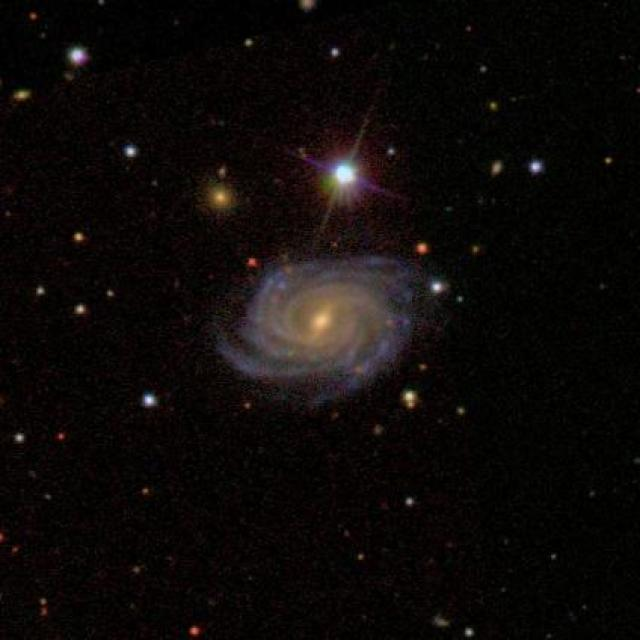galaxy: (212, 248, 442, 419), (200, 178, 243, 223), (68, 46, 94, 70), (399, 389, 424, 412), (525, 154, 546, 181), (431, 612, 455, 632), (141, 390, 162, 412), (10, 87, 35, 104), (490, 157, 507, 180), (72, 300, 93, 318), (245, 253, 262, 272), (67, 231, 89, 245), (121, 144, 140, 160), (1, 203, 17, 222), (433, 277, 448, 297), (296, 1, 319, 14), (61, 67, 78, 84), (373, 423, 390, 440), (35, 593, 53, 608), (468, 240, 482, 259), (215, 161, 227, 183), (416, 240, 430, 257), (13, 429, 27, 445), (189, 623, 203, 639), (329, 45, 345, 59), (41, 489, 57, 503), (147, 177, 163, 191), (377, 499, 391, 515), (242, 33, 255, 50), (130, 564, 144, 579), (241, 399, 256, 413), (587, 487, 600, 503), (11, 543, 23, 560), (452, 408, 470, 419), (385, 145, 399, 159), (355, 551, 368, 565), (461, 22, 475, 35), (56, 429, 66, 445), (597, 282, 611, 293), (29, 11, 40, 24), (605, 154, 616, 167), (479, 62, 489, 76), (37, 608, 52, 617), (341, 528, 353, 539), (485, 102, 497, 113), (208, 118, 219, 130), (463, 627, 473, 640), (1, 533, 10, 547), (444, 205, 455, 216), (107, 288, 117, 300), (456, 293, 466, 305), (142, 485, 152, 496), (217, 118, 226, 130), (407, 496, 414, 509), (98, 1, 108, 10), (549, 550, 557, 561), (420, 363, 428, 372), (38, 288, 45, 297)
star: (279, 112, 413, 243)
